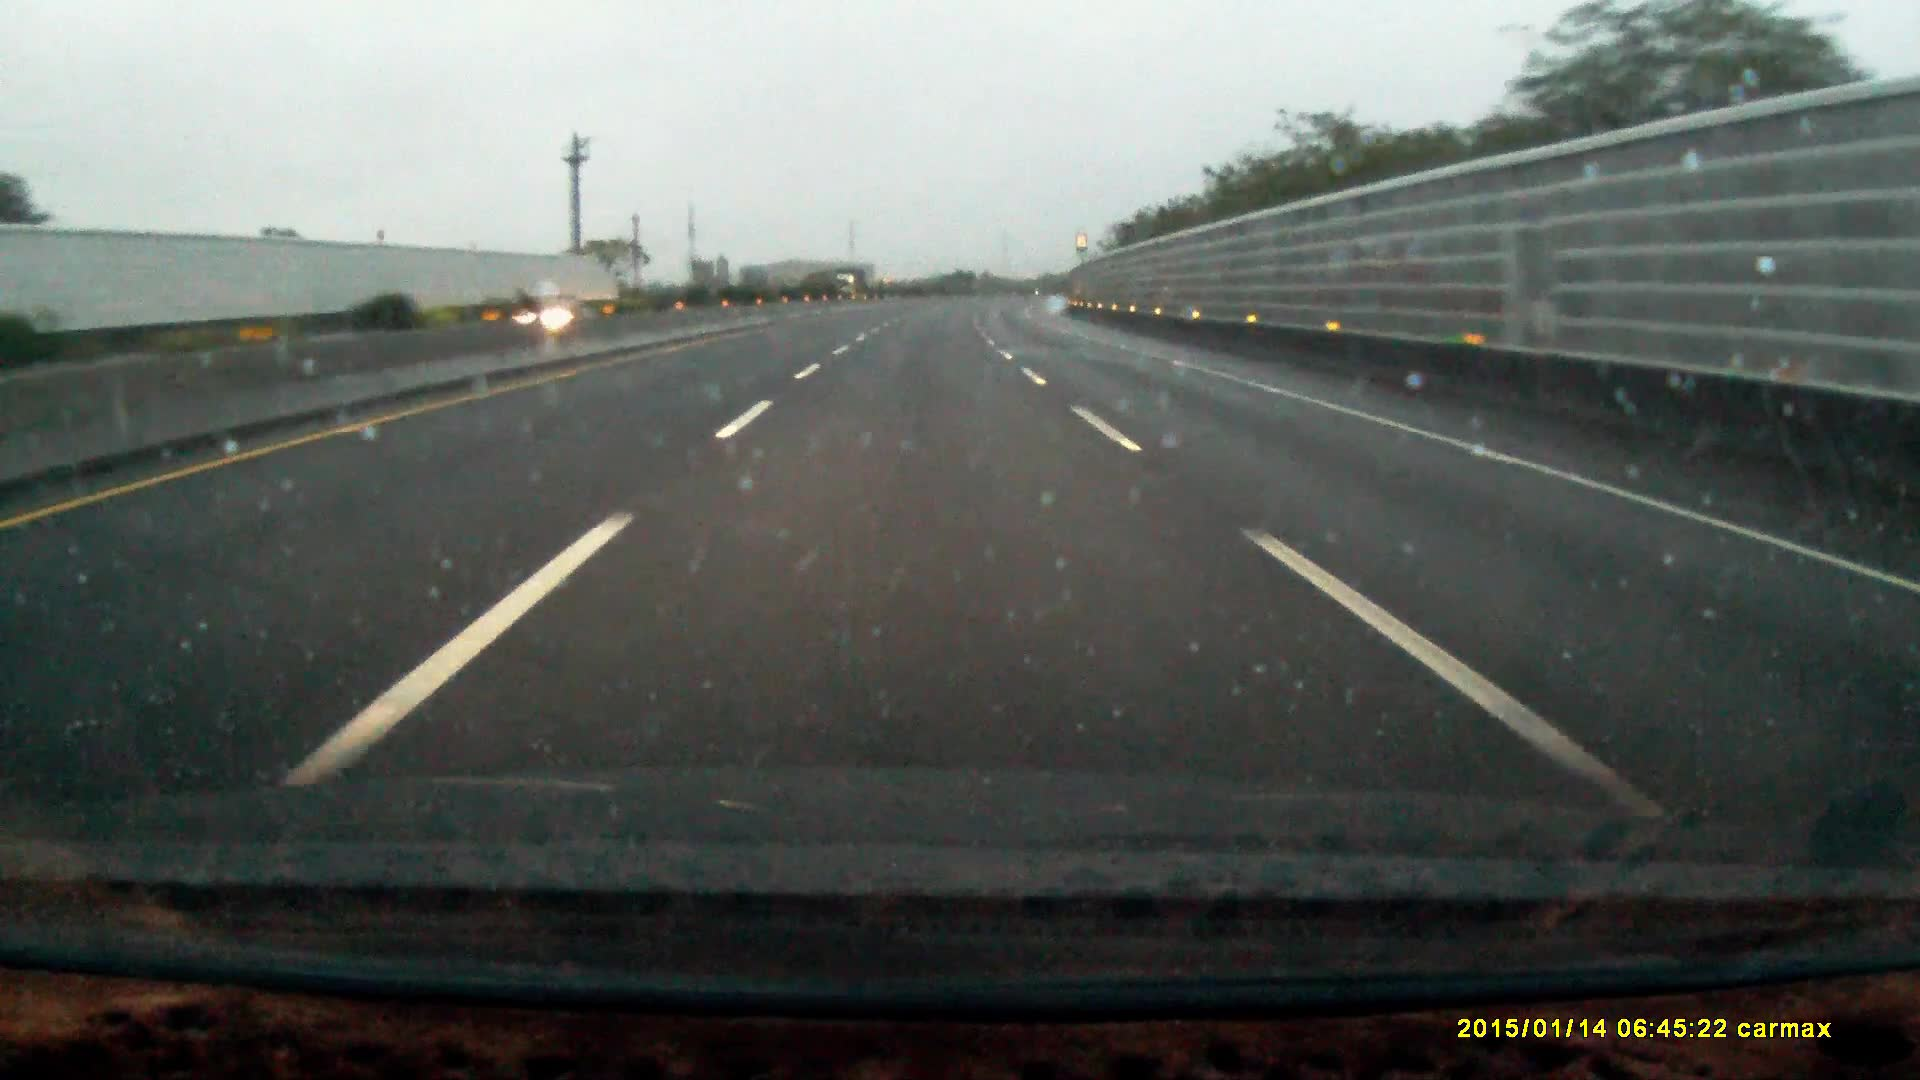vehicle: (509, 295, 605, 345), (833, 270, 868, 305)
